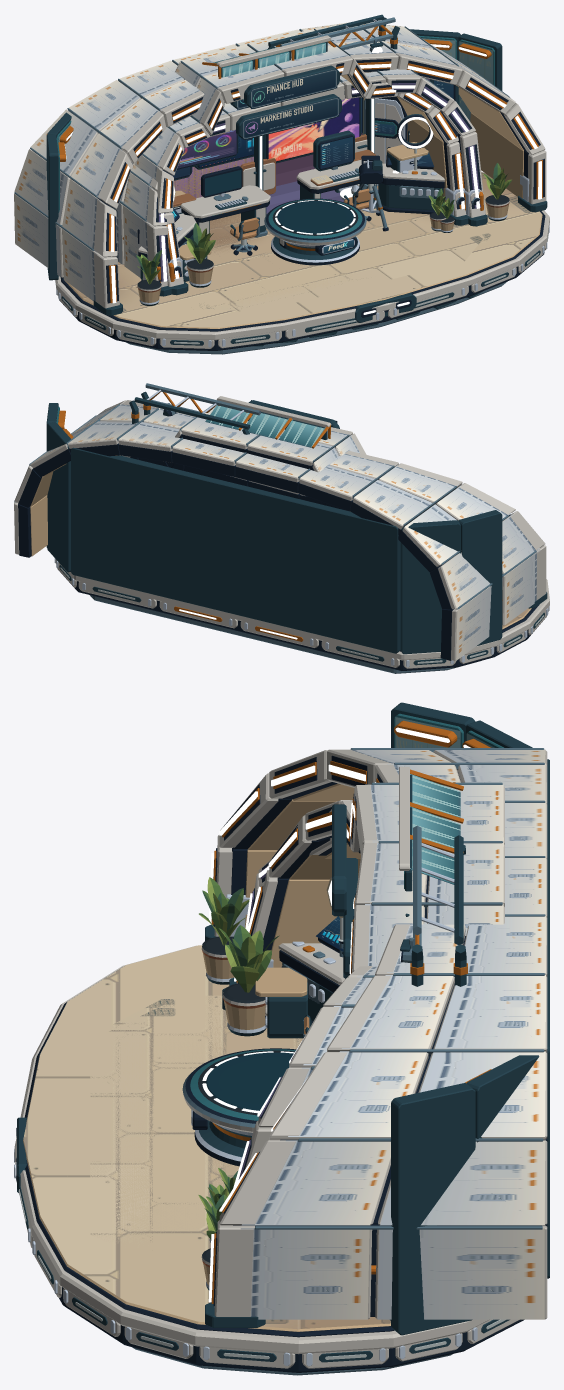
File: departments.glb
3 renders of one model, top to bottom at view 1: azimuth 30°, elevation 25°; view 2: azimuth 150°, elevation 25°; view 3: azimuth 270°, elevation 25°, orthographic. The views are drawn at different scales.
Visible parts, largest first — view 1: CommandCabin • glazed structure, FinanceCabin • glazed structure, MarketingCabin • glazed structure, MarketingMural, MarketingPlaque, FinancePlaque, MarketingCameraHead • glazed structure, FinanceDisplay, FinanceMural; view 2: CommandCabin • glazed structure, FinanceCabin • glazed structure, MarketingCabin • glazed structure; view 3: CommandCabin • glazed structure, FinanceCabin • glazed structure, MarketingCabin • glazed structure.
Boxes of the visible parts, x1=… form: CommandCabin • glazed structure: x1=14, y1=22, x2=549, y2=354; FinanceCabin • glazed structure: x1=131, y1=29, x2=484, y2=312; MarketingCabin • glazed structure: x1=113, y1=14, x2=491, y2=296; MarketingMural: x1=268, y1=97, x2=359, y2=161; MarketingPlaque: x1=242, y1=97, x2=339, y2=139; FinancePlaque: x1=251, y1=68, x2=337, y2=108; MarketingCameraHead • glazed structure: x1=355, y1=155, x2=382, y2=197; FinanceDisplay: x1=205, y1=170, x2=241, y2=196; FinanceMural: x1=199, y1=135, x2=263, y2=167; CommandCabin • glazed structure: x1=14, y1=400, x2=549, y2=673; FinanceCabin • glazed structure: x1=122, y1=396, x2=366, y2=510; MarketingCabin • glazed structure: x1=129, y1=383, x2=321, y2=504; CommandCabin • glazed structure: x1=14, y1=702, x2=549, y2=1375; FinanceCabin • glazed structure: x1=90, y1=766, x2=504, y2=1196; MarketingCabin • glazed structure: x1=90, y1=825, x2=467, y2=1245.
Bounding box in the file's own units: 11.05 × 4.86 × 6.18.
Materials: 6 (2 with a texture image).
